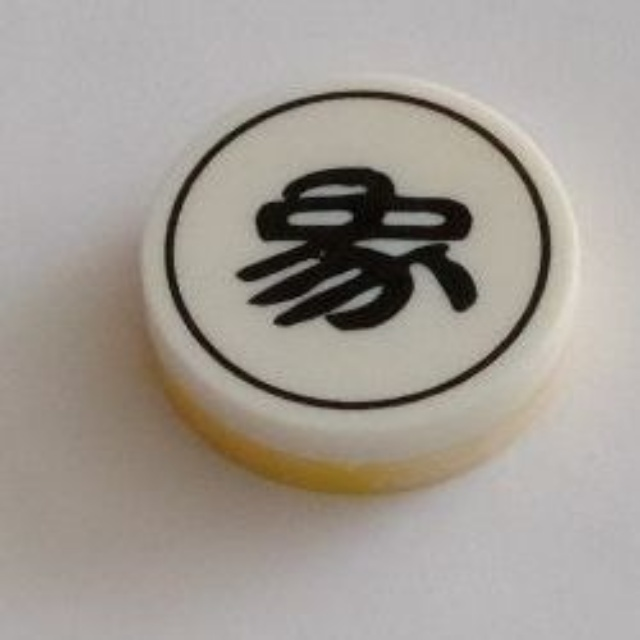black_bo: (124, 67, 610, 503)
